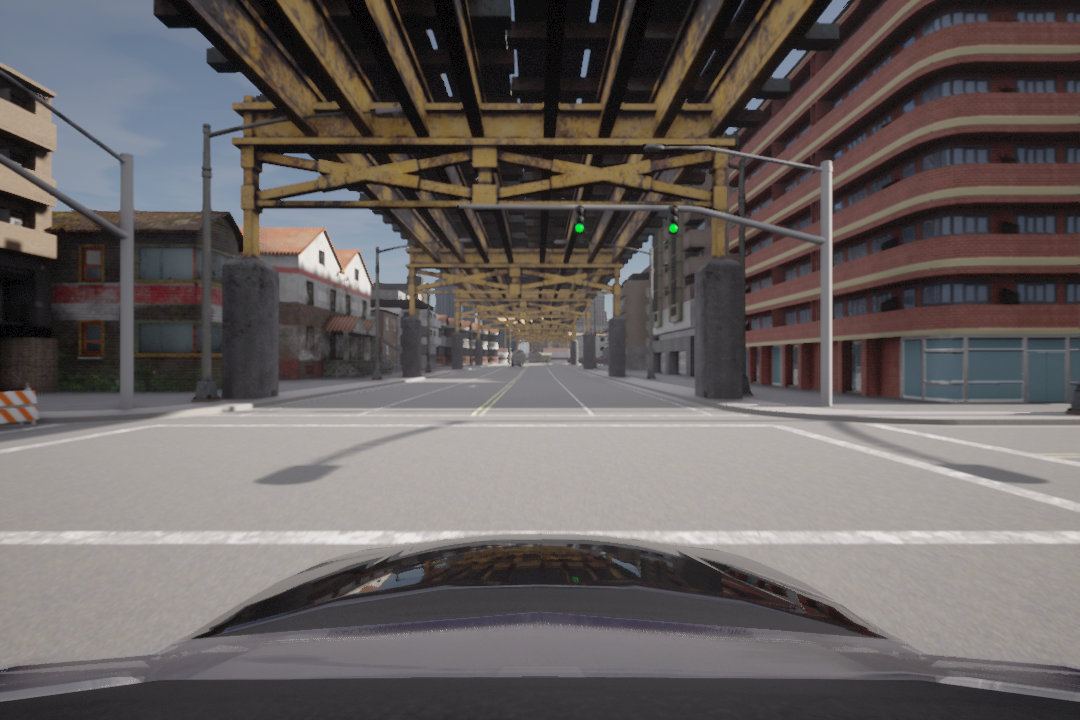TrafficLight: (664, 204, 681, 237), (573, 204, 589, 235)
